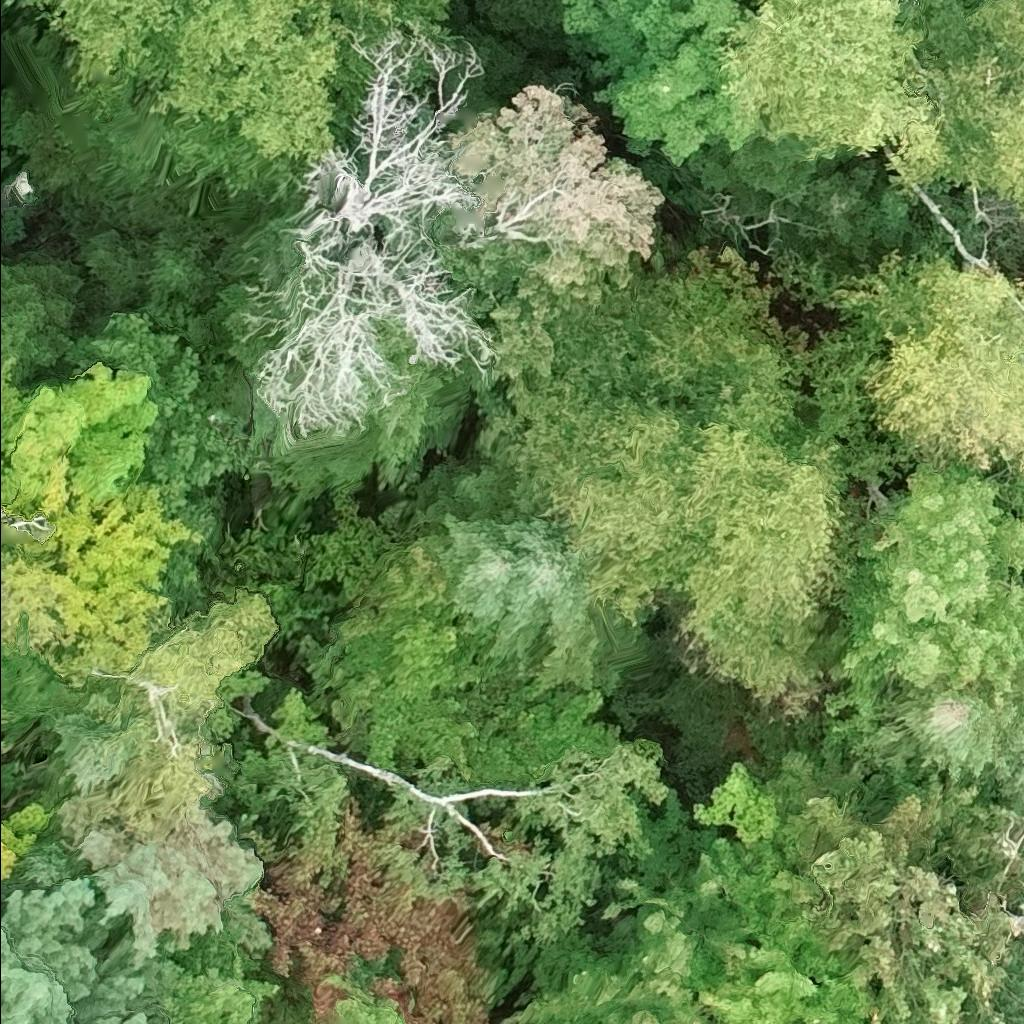crown: (240, 24, 494, 432), (718, 0, 937, 159), (555, 0, 756, 167), (883, 0, 1023, 234)
